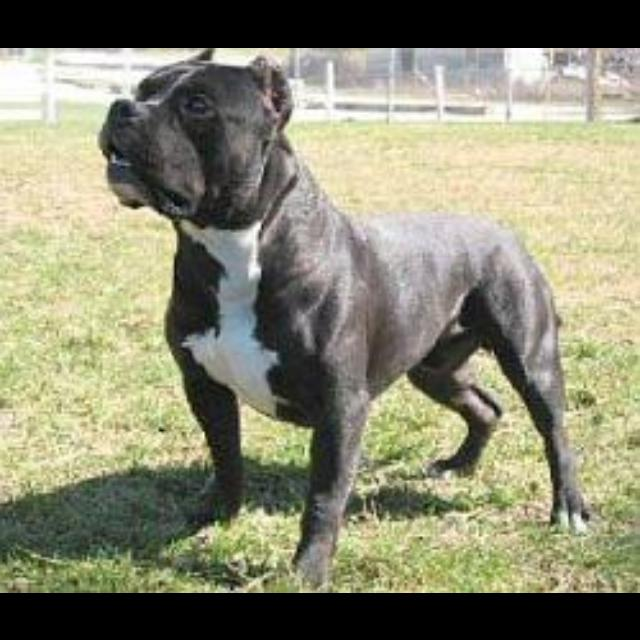amstaff: (96, 48, 592, 590)
